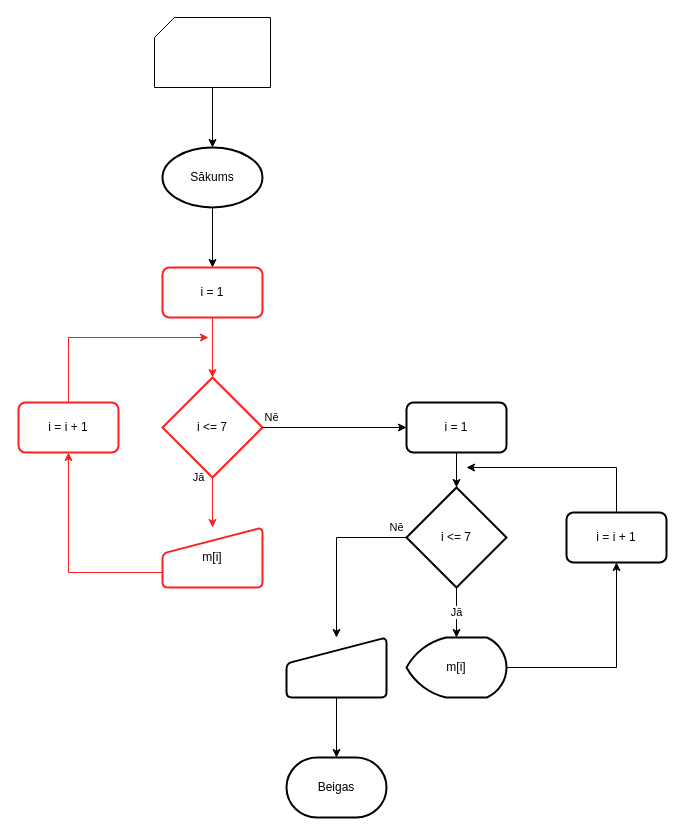
The diagram is 684 pixels wide and 836 high, and some of its shapes have lost their labels. The centre of each missing label's shape, as x and y in pixels:
"Jebkurš Taustiņš" goes at (336,667).
"m - masīvs [1..7] i - cikla mainīgais un masīvais indekss" goes at (212,52).
